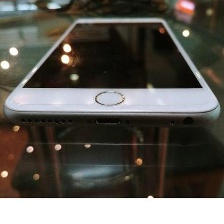phone: (0, 13, 221, 132)
